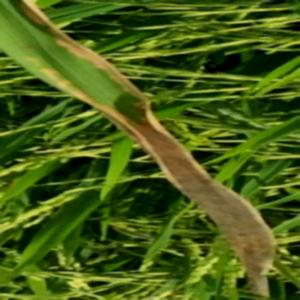2 BacterialBlight: (62, 38, 153, 155)
